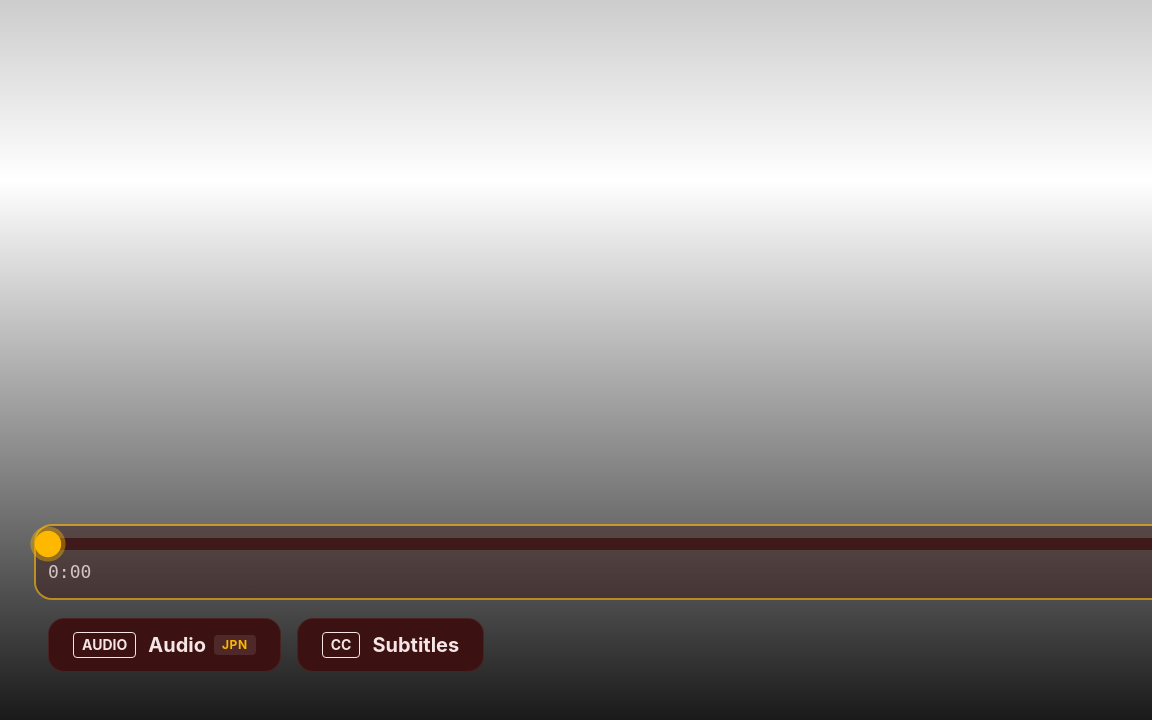
PlayerScreen multi-audio discovery, switching & preference persistence › auto-selects preferred Japanese main dialogue (Track 2, skipping Track 1 commentary) across episodes
(page scrolled)
Click the button with test id "audio-button". click: click(164, 645)
box: x1=48 y1=618 x2=281 y2=672
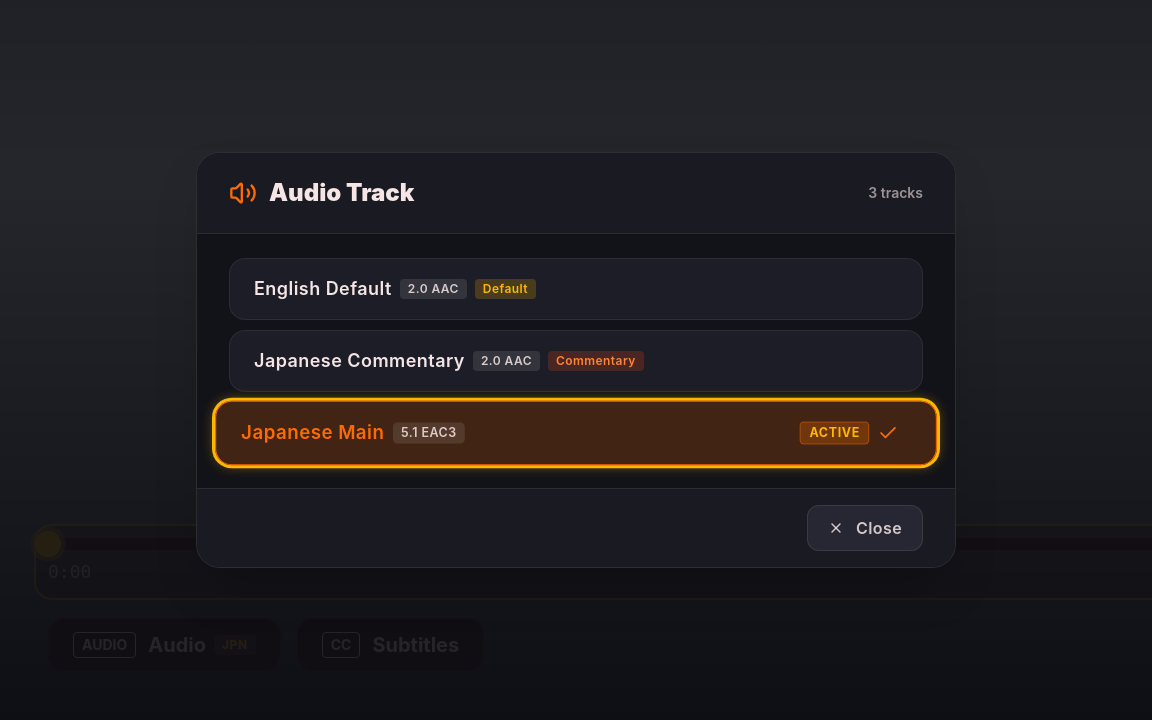
Expected: the button with test id "audio-track-btn-1" does not show "Active", x1=229 y1=330 x2=923 y2=392
Now the button with test id "audio-track-btn-2" shows "Active", box x1=215 y1=401 x2=937 y2=465
